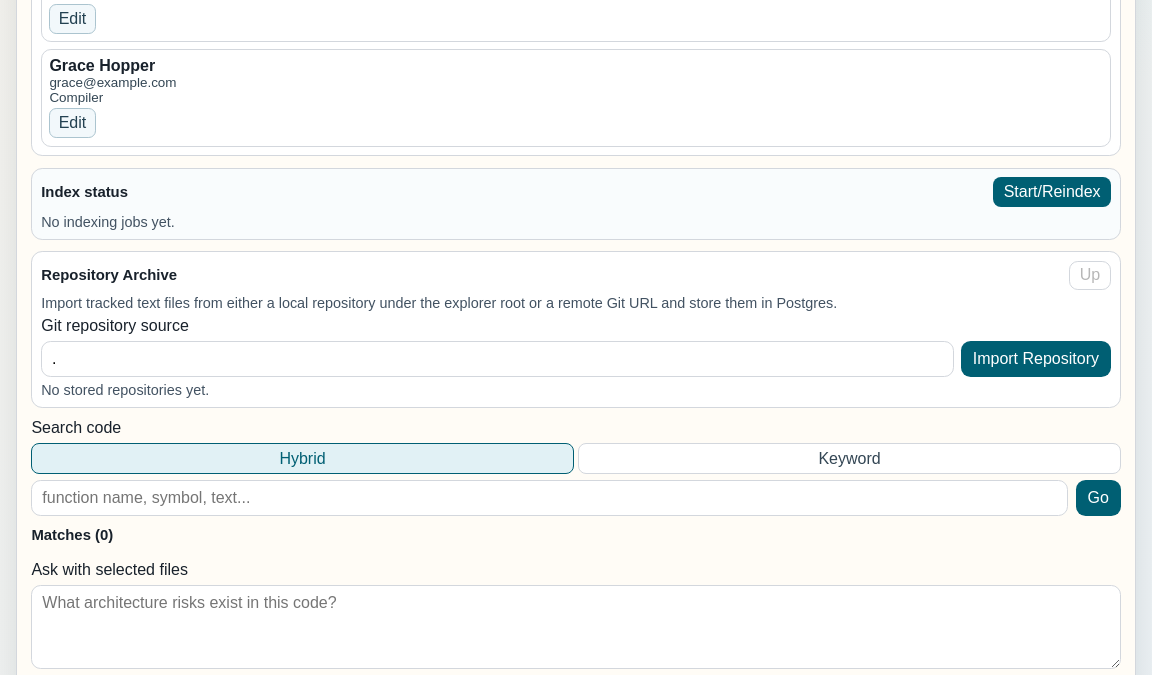
Test: Explorer › imports a remote git repository and loads its stored tree
The image size is (1152, 675).
(page scrolled)
Replace the text in the field labelled "Git repository source" with "https://github.com/example/sample-repo.git": (497, 359) x1=41 y1=341 x2=954 y2=377
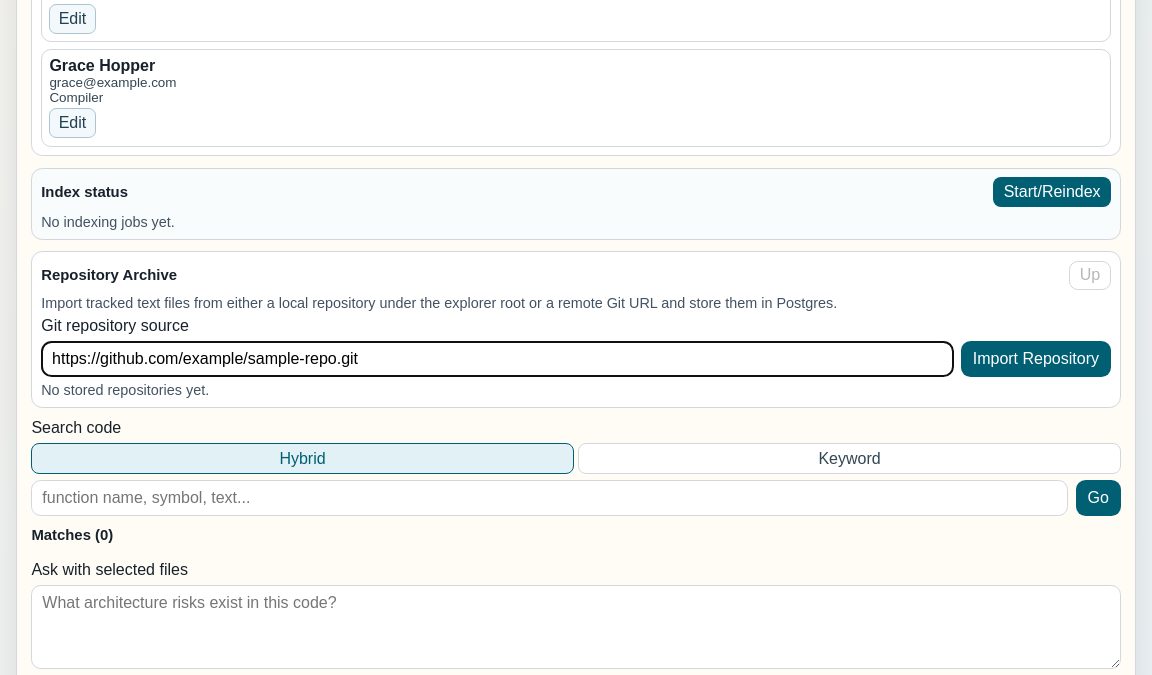
Click the button "Import Repository": (1036, 359) x1=961 y1=341 x2=1111 y2=377
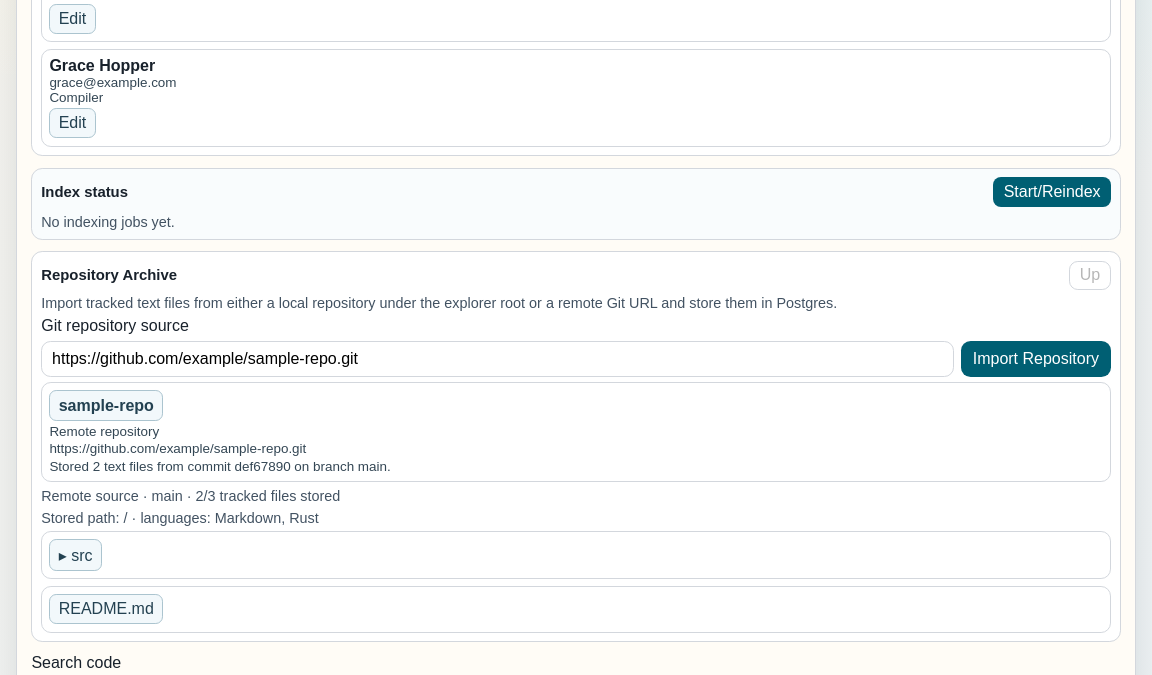
Expected: the text "Remote repository" is shown, x1=49 y1=424 x2=159 y2=438
Expected: the text "Stored 2 text files from commit def67890 on branch main." is shown, x1=49 y1=459 x2=391 y2=474
Expected: the button "README.md" is shown, x1=49 y1=594 x2=163 y2=624
